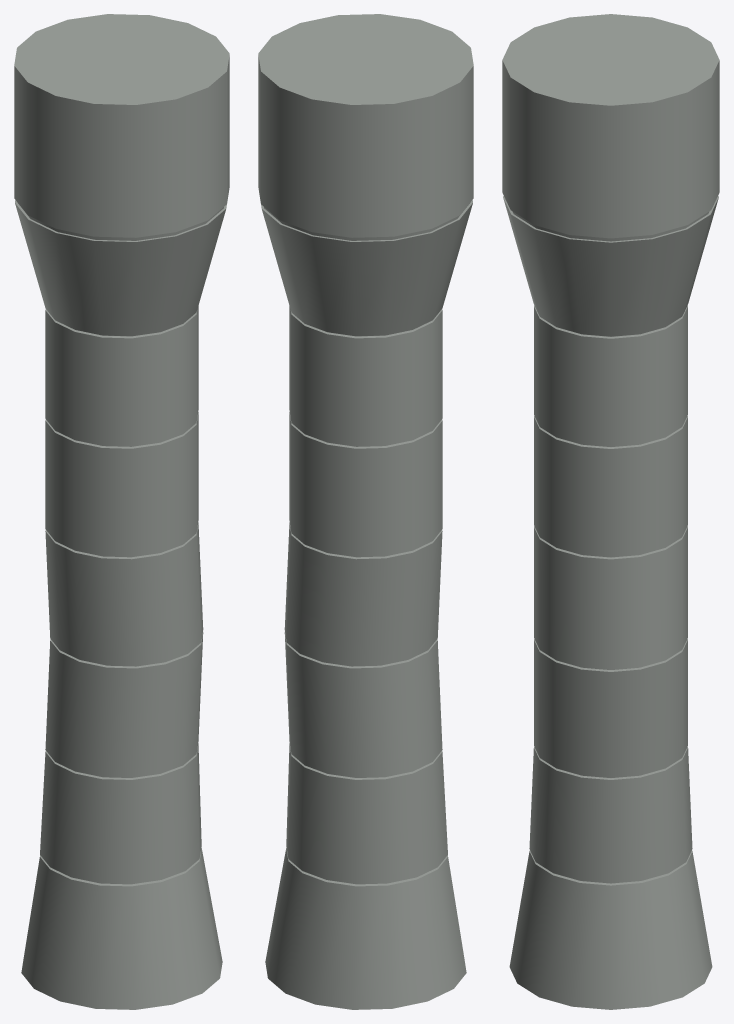
Rendered from WallStonePillar2.fbx.
3 views of the same model, side by side, from view 1: azimuth 30°, elevation 25°; view 2: azimuth 150°, elevation 25°; view 3: azimuth 270°, elevation 25° (orthographic).
Parts seen in each view (by area): view 1: Circle.018; view 2: Circle.018; view 3: Circle.018.
Part boxes in pixels (box(x1,y1,x2,y2)): Circle.018: box(14, 14, 229, 1009); Circle.018: box(258, 14, 473, 1009); Circle.018: box(502, 14, 719, 1009).
Bounding box in the file's own units: 58.32 × 269 × 58.32.
Materials: 1 (1 with a texture image).
